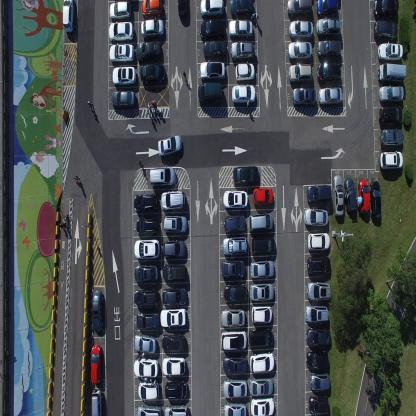car: (136, 39, 162, 64), (377, 61, 406, 83), (157, 133, 182, 158), (134, 237, 160, 260), (197, 82, 223, 105), (220, 329, 248, 350), (249, 211, 274, 234), (250, 234, 276, 256), (222, 188, 248, 210), (306, 182, 332, 204), (306, 280, 332, 302), (250, 352, 276, 374), (199, 60, 225, 82), (198, 19, 225, 40), (288, 61, 312, 84), (307, 326, 332, 348), (223, 282, 248, 304), (373, 18, 398, 40), (316, 62, 341, 84), (231, 83, 256, 105), (160, 306, 186, 327), (133, 357, 159, 378), (140, 63, 166, 84), (307, 254, 331, 276), (221, 306, 245, 328), (92, 290, 104, 334), (379, 149, 403, 171), (378, 105, 402, 127), (318, 86, 342, 108), (292, 86, 316, 108), (108, 0, 132, 22), (112, 66, 136, 88), (160, 190, 185, 211), (222, 235, 247, 256), (250, 258, 275, 279), (222, 354, 247, 375), (223, 377, 248, 398), (287, 40, 312, 61), (150, 166, 176, 186), (249, 282, 275, 302), (161, 286, 187, 306), (108, 22, 134, 42), (108, 43, 134, 63), (332, 174, 344, 216), (163, 213, 187, 234), (230, 40, 254, 61), (229, 18, 253, 39), (303, 206, 328, 226), (248, 328, 273, 348), (111, 90, 136, 110), (133, 288, 159, 307), (377, 42, 403, 61), (288, 20, 314, 39), (369, 180, 381, 221), (90, 343, 102, 384), (232, 166, 259, 184), (224, 212, 246, 234), (308, 393, 330, 415), (235, 61, 256, 84), (141, 18, 164, 39), (134, 192, 158, 212), (221, 258, 245, 278), (162, 238, 186, 258), (134, 264, 158, 284), (136, 310, 160, 330), (304, 304, 329, 323), (250, 396, 275, 415), (344, 178, 357, 214), (378, 85, 404, 103), (373, 0, 399, 18), (228, 0, 254, 18), (199, 0, 225, 18), (306, 349, 328, 370), (137, 379, 159, 400), (307, 231, 330, 251), (162, 356, 185, 376), (380, 128, 403, 148), (286, 0, 313, 17), (357, 178, 369, 216), (162, 263, 186, 282), (161, 333, 185, 352), (164, 380, 188, 399), (315, 0, 339, 19), (316, 19, 340, 38), (317, 40, 341, 59), (203, 40, 227, 59), (140, 0, 164, 19), (61, 0, 74, 34), (310, 370, 330, 392), (136, 216, 158, 236), (134, 333, 156, 353), (250, 377, 273, 396), (252, 187, 274, 206), (251, 305, 273, 324), (222, 402, 247, 415), (91, 388, 103, 415), (164, 403, 189, 415), (136, 404, 162, 415), (177, 0, 188, 18)
